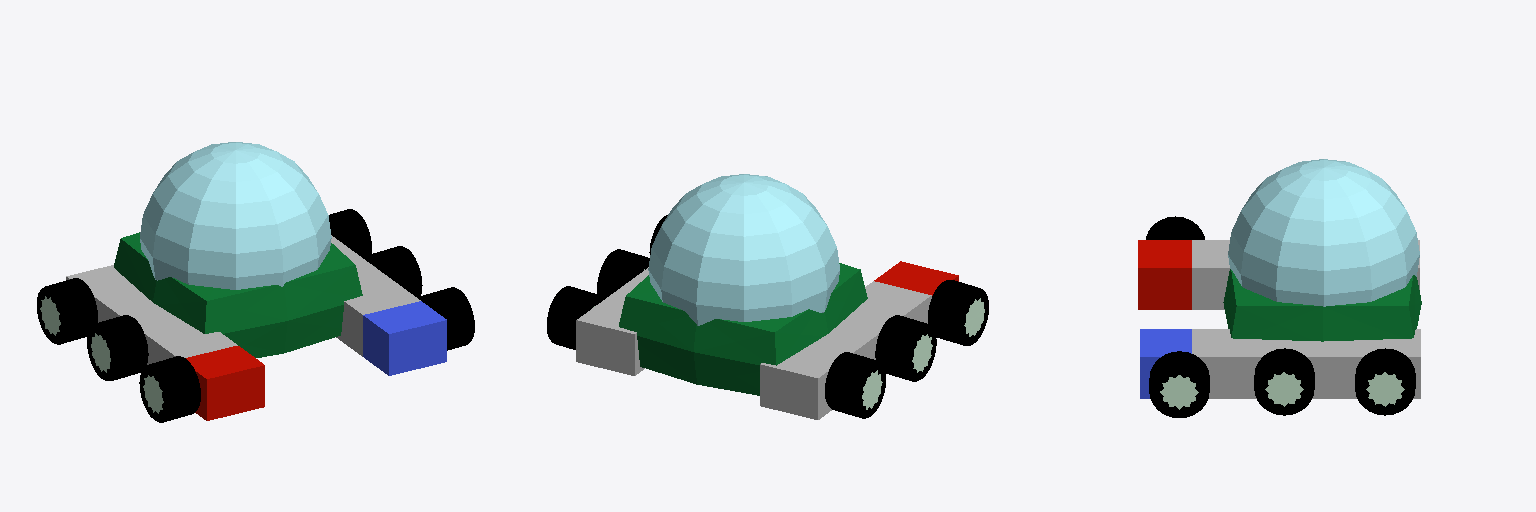
The model's file is cart_obj.obj.
The picture shows the model from 3 angles: view 1: azimuth 30°, elevation 25°; view 2: azimuth 150°, elevation 25°; view 3: azimuth 270°, elevation 25°; orthographic projection.
Visible parts, largest first — view 1: mesh13, mesh12, mesh05, mesh04, mesh06, mesh08, mesh07, mesh09, mesh11, mesh10; view 2: mesh13, mesh12, mesh05, mesh04, mesh07, mesh06, mesh08, mesh10, mesh11; view 3: mesh13, mesh04, mesh12, mesh05, mesh11, mesh10, mesh09, mesh06.
Boxes of the visible parts, x1,y1,x2,y2 form: mesh13: [140, 142, 331, 289]; mesh12: [114, 232, 362, 357]; mesh05: [66, 265, 264, 420]; mesh04: [331, 235, 446, 375]; mesh06: [139, 356, 200, 422]; mesh08: [87, 315, 148, 380]; mesh07: [37, 278, 97, 344]; mesh09: [418, 287, 474, 350]; mesh11: [365, 246, 422, 297]; mesh10: [329, 209, 371, 258]; mesh13: [648, 174, 839, 325]; mesh12: [619, 263, 867, 395]; mesh05: [760, 261, 958, 419]; mesh04: [576, 267, 648, 375]; mesh07: [825, 352, 885, 418]; mesh06: [928, 280, 988, 345]; mesh08: [875, 315, 936, 381]; mesh10: [547, 286, 604, 349]; mesh11: [597, 249, 649, 298]; mesh13: [1228, 159, 1419, 306]; mesh04: [1140, 329, 1420, 398]; mesh12: [1223, 269, 1421, 341]; mesh05: [1138, 240, 1419, 309]; mesh11: [1254, 348, 1314, 415]; mesh10: [1355, 348, 1415, 415]; mesh09: [1149, 351, 1209, 417]; mesh06: [1146, 216, 1204, 239].
Size of the model in its own units: 30.54 by 16.8 by 24.22.